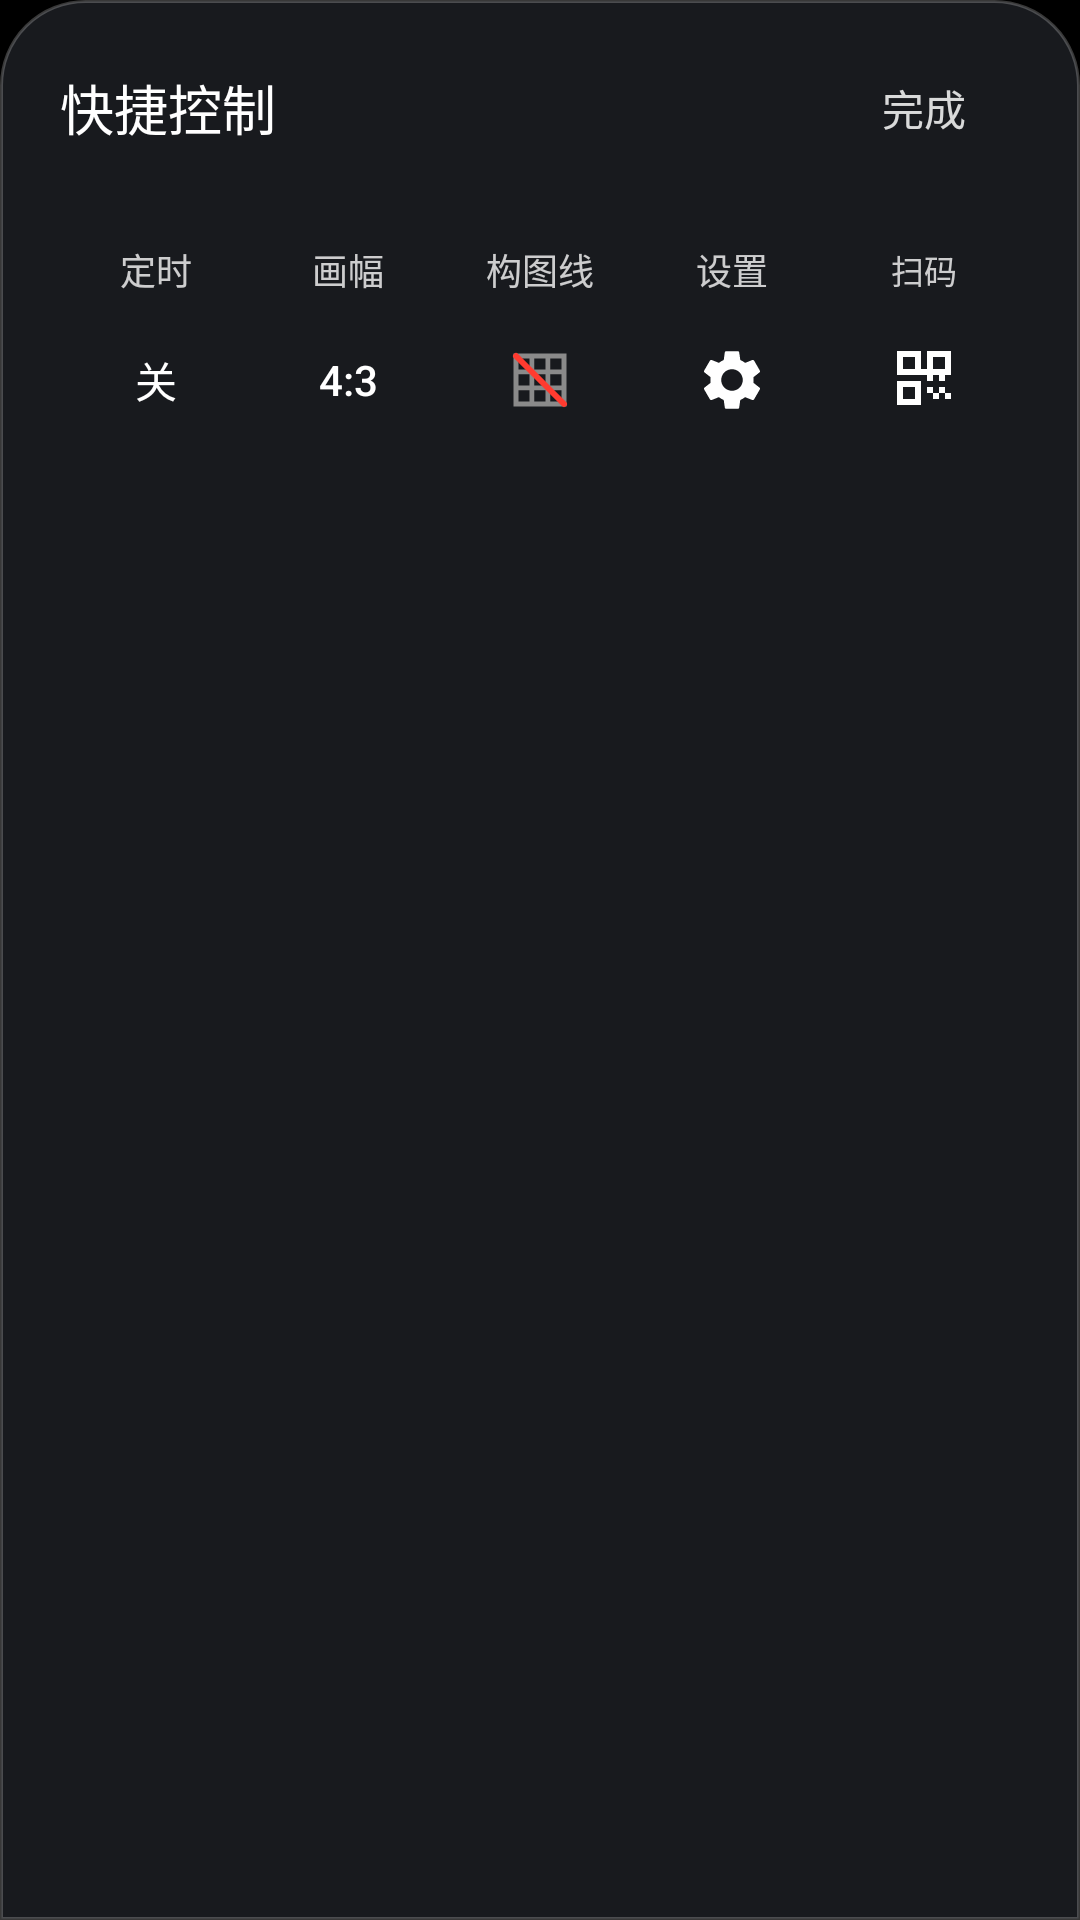

Locate icon controls on the screen. Image size 1080x1920, boxes as bbox=(x1, y1, x2, y2).
扫描二维码: bbox=(897, 351, 951, 405)
构图辅助线: bbox=(513, 352, 567, 407)
